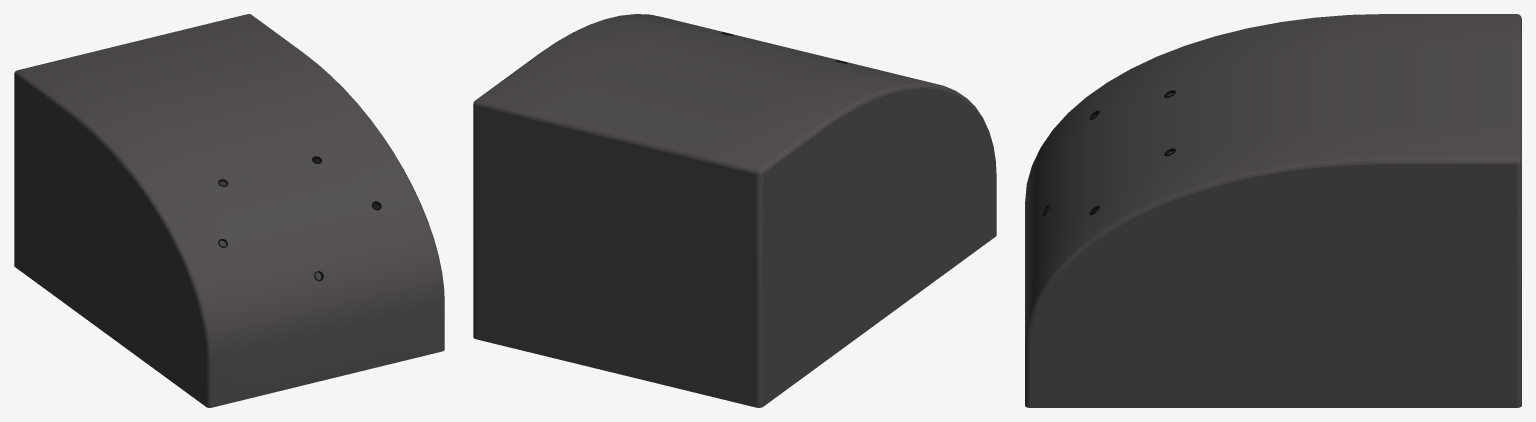
Rendered from LaparBox.fbx.
3 renders of one model, left to right at view 1: azimuth 30°, elevation 25°; view 2: azimuth 150°, elevation 25°; view 3: azimuth 270°, elevation 25°, orthographic. The views are drawn at different scales.
Parts seen in each view (by area): view 1: LaparBox; view 2: LaparBox; view 3: LaparBox.
Part boxes in pixels (x1,y1,x2,y2): LaparBox: [14, 14, 444, 407]; LaparBox: [473, 14, 996, 407]; LaparBox: [1025, 14, 1521, 407].
Size of the model in its own units: 0.2787 by 0.2187 by 0.3968.
